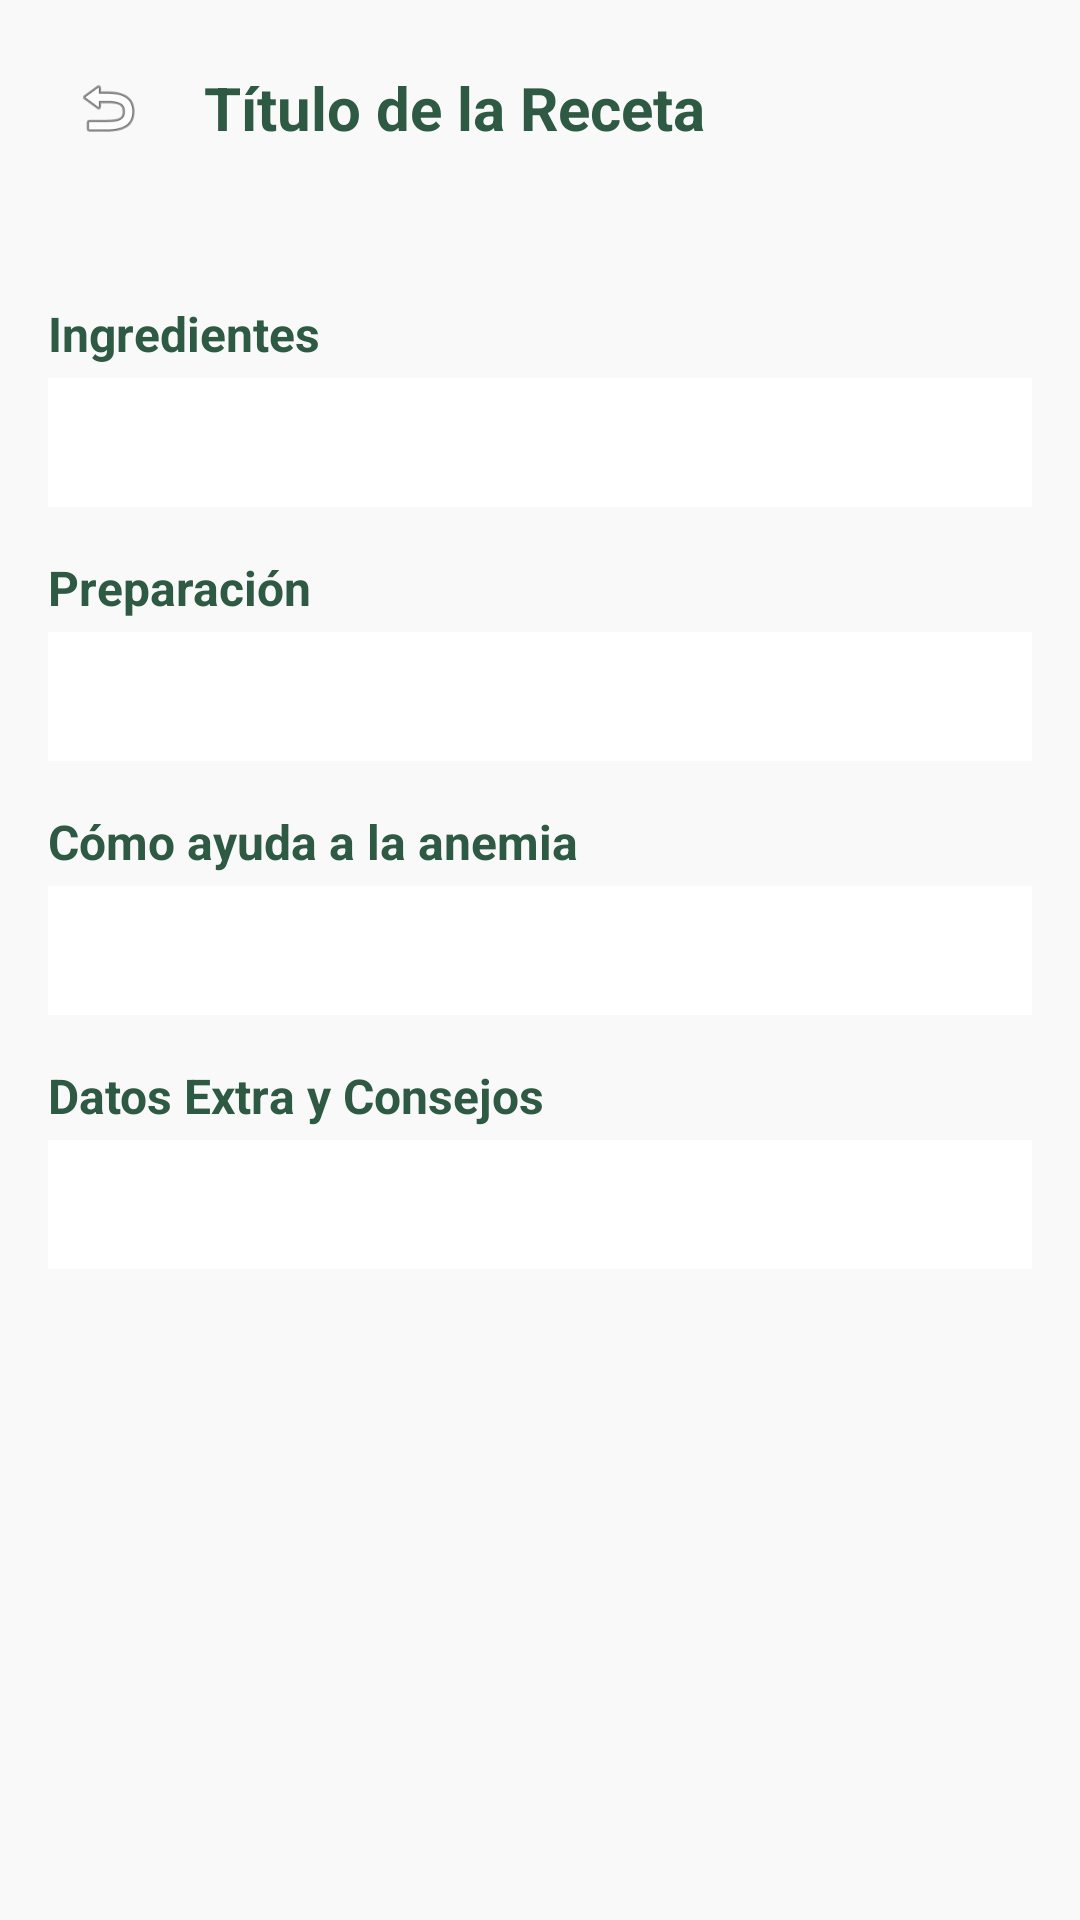

Named icons in this screenshot (1080px x 1920px) and their centers, (x,y):
revert: (109,108)
